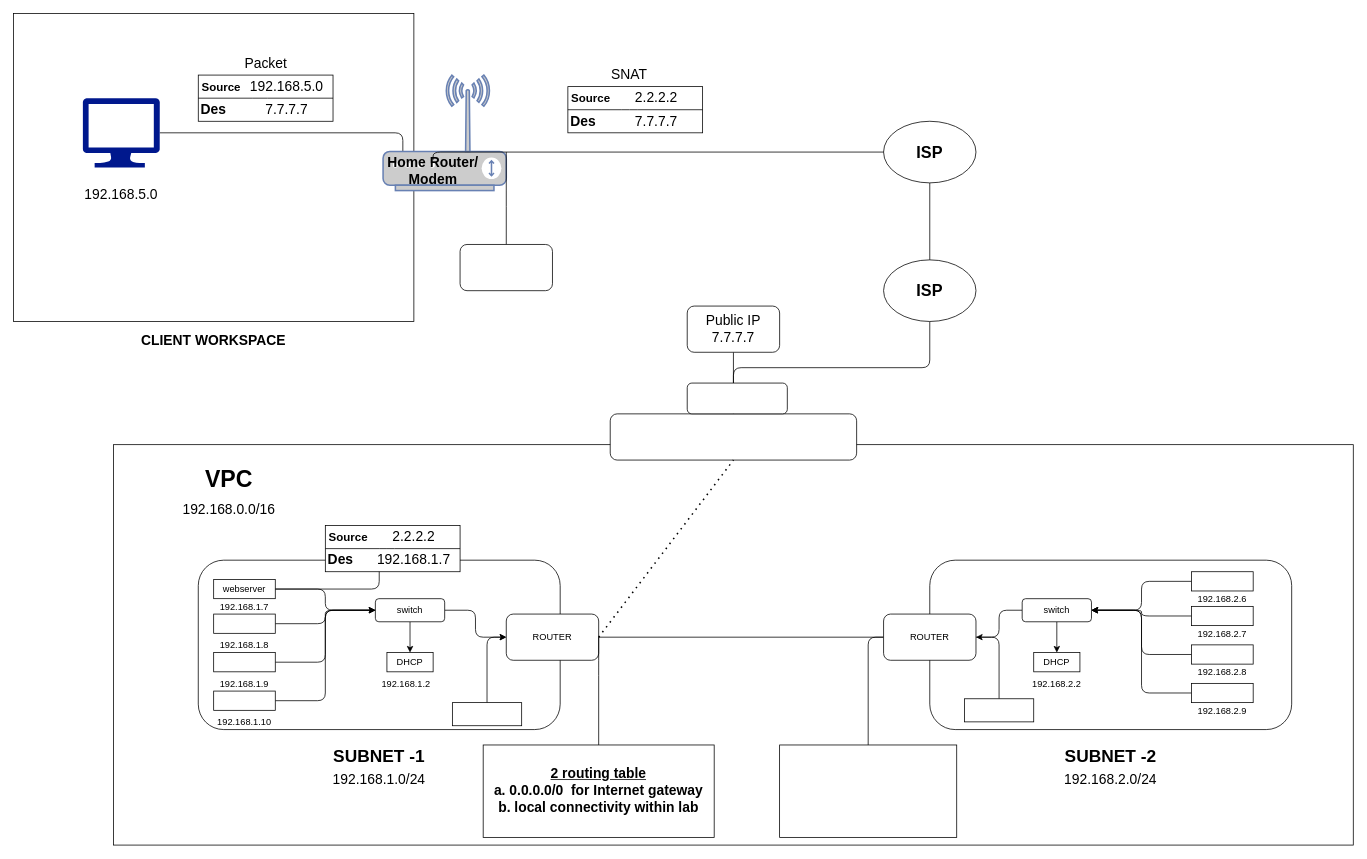
Image size: 1367x859. Some labels were removed from this diagram. Each missing label, with the box of its shape:
DNAT: (686, 382, 787, 414)
INTERNET GATEWAY: (609, 413, 857, 460)
Public IP 2.2.2.2: (459, 244, 552, 291)
Router Private IP 192.168.1.1: (452, 702, 522, 726)
Router Private IP 192.168.2.1: (964, 698, 1034, 722)
single routing table a. local connectivity within lab: (779, 744, 957, 837)
